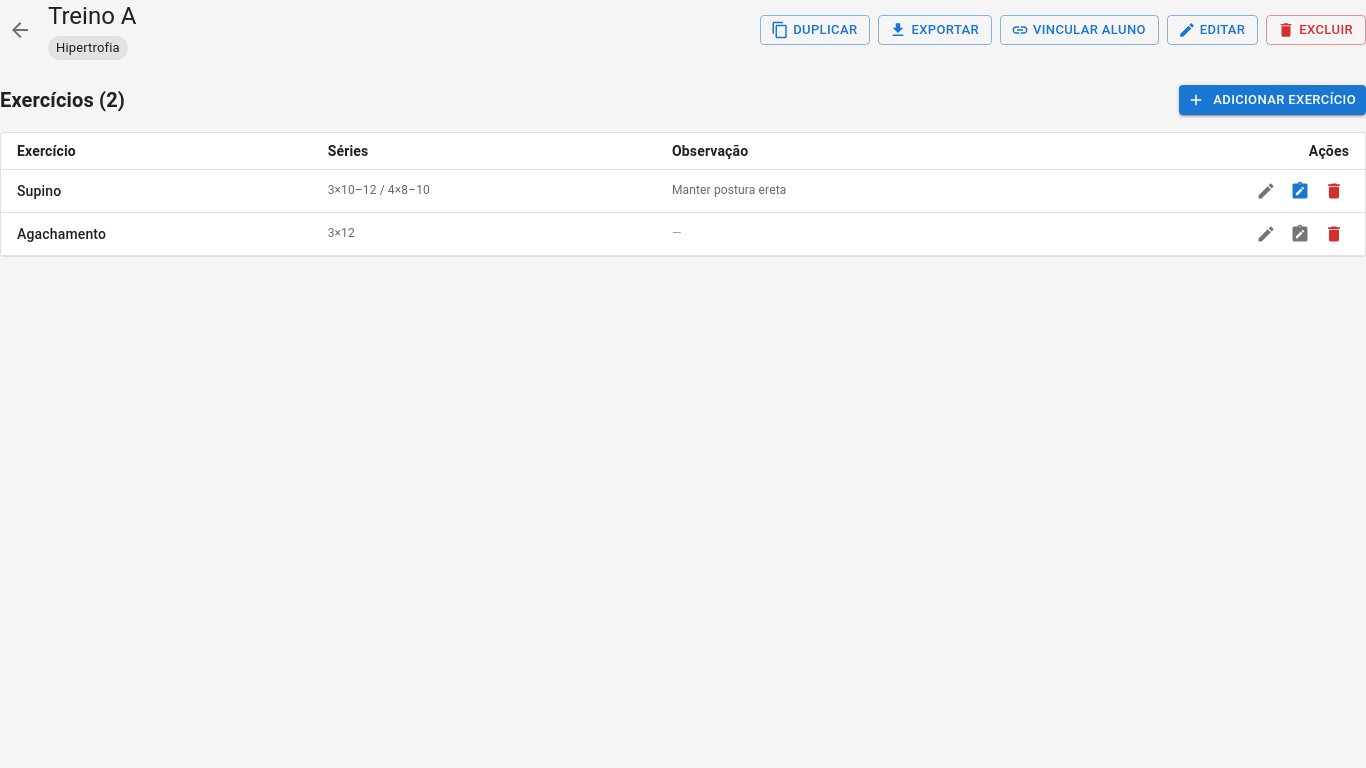
Test case: DetalheFichaPage — Observação do exercício › exercício com observação existente abre em modo edição, permite Limpar e salva observacao null
Click the button named "Editar observação" at (1300, 191), box 1285,176 -> 1315,206
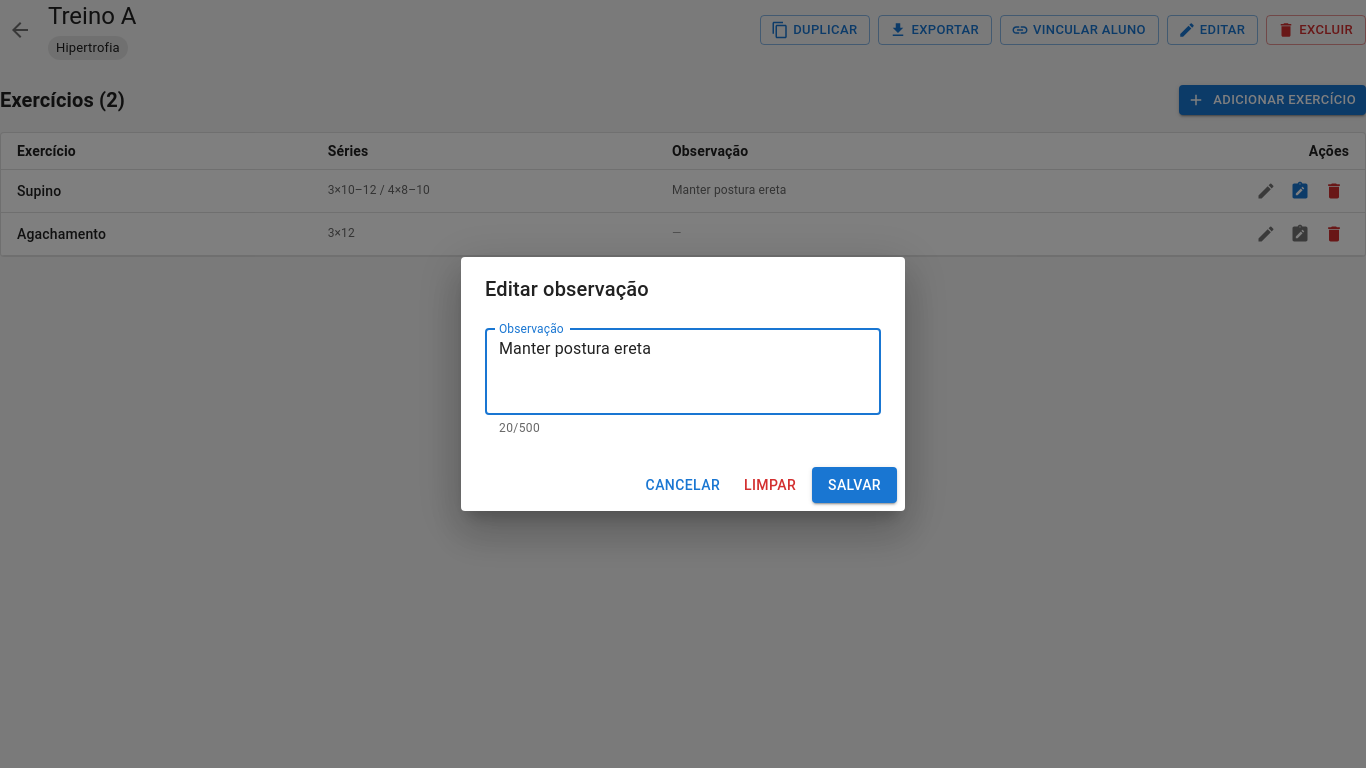
Expected: the heading "Editar observação" is shown, 485,277 -> 649,301
Expected: the text box labelled "Observação" holds "Manter postura ereta", 499,337 -> 867,406
Click the button "Limpar" at (770, 485), box 736,467 -> 804,503
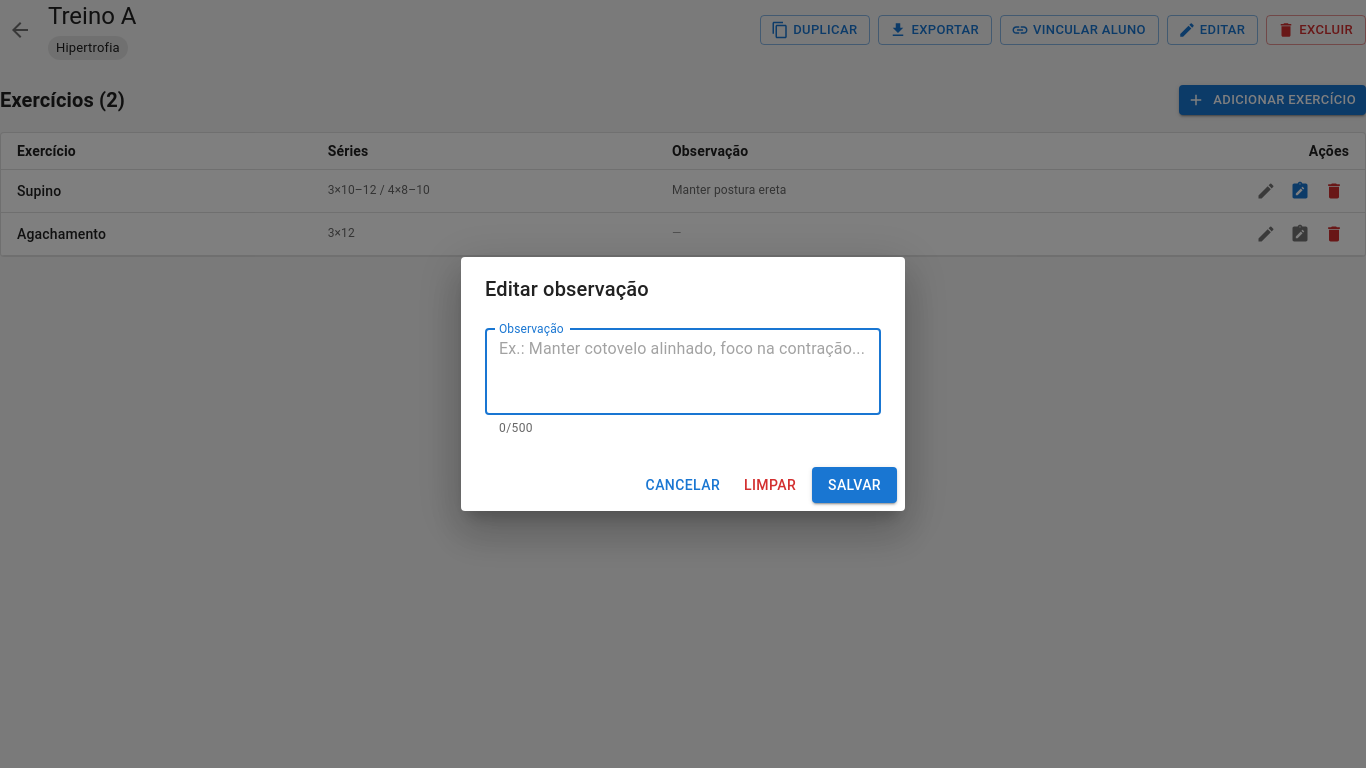
Expected: the text box labelled "Observação" is empty, 499,337 -> 867,406
Click the button "Salvar" at (854, 485), box 812,467 -> 897,503
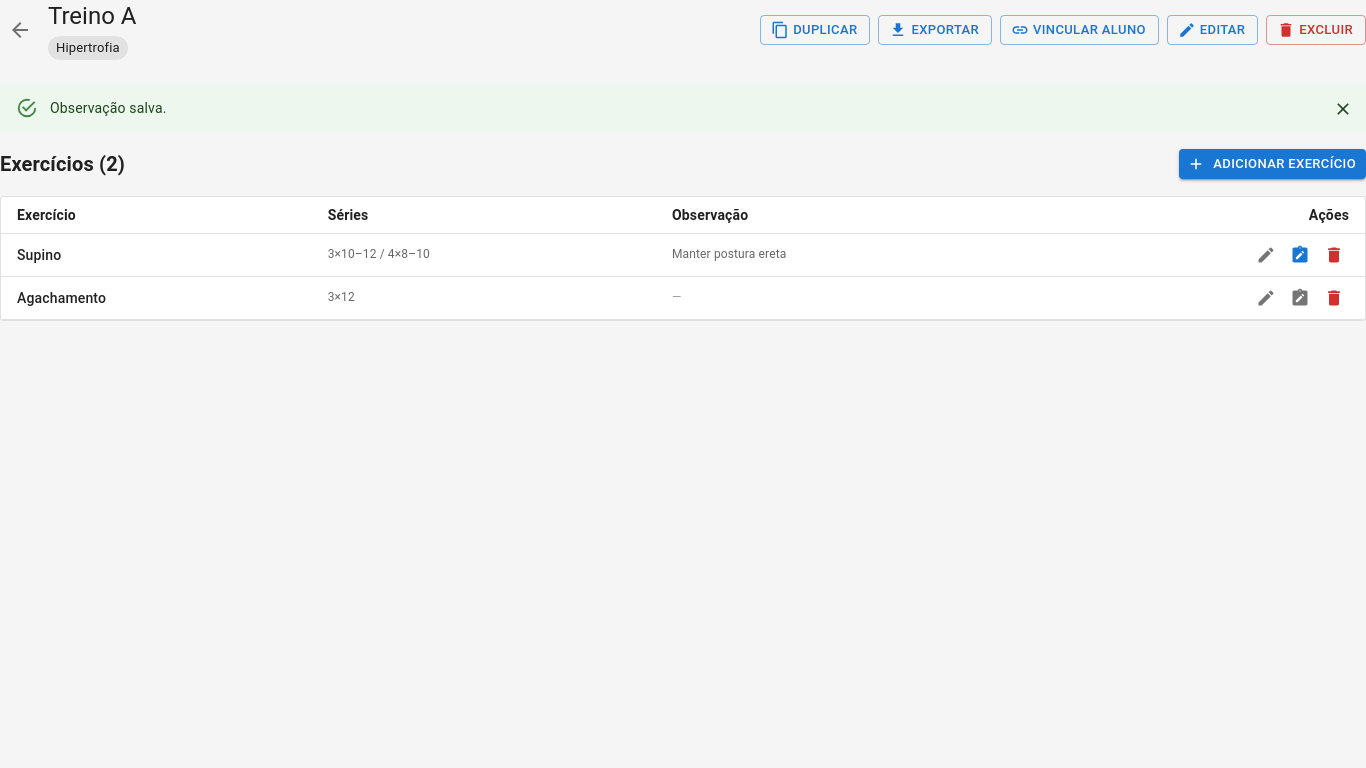
Expected: the text "Observação salva." is shown, 50,100 -> 166,116
